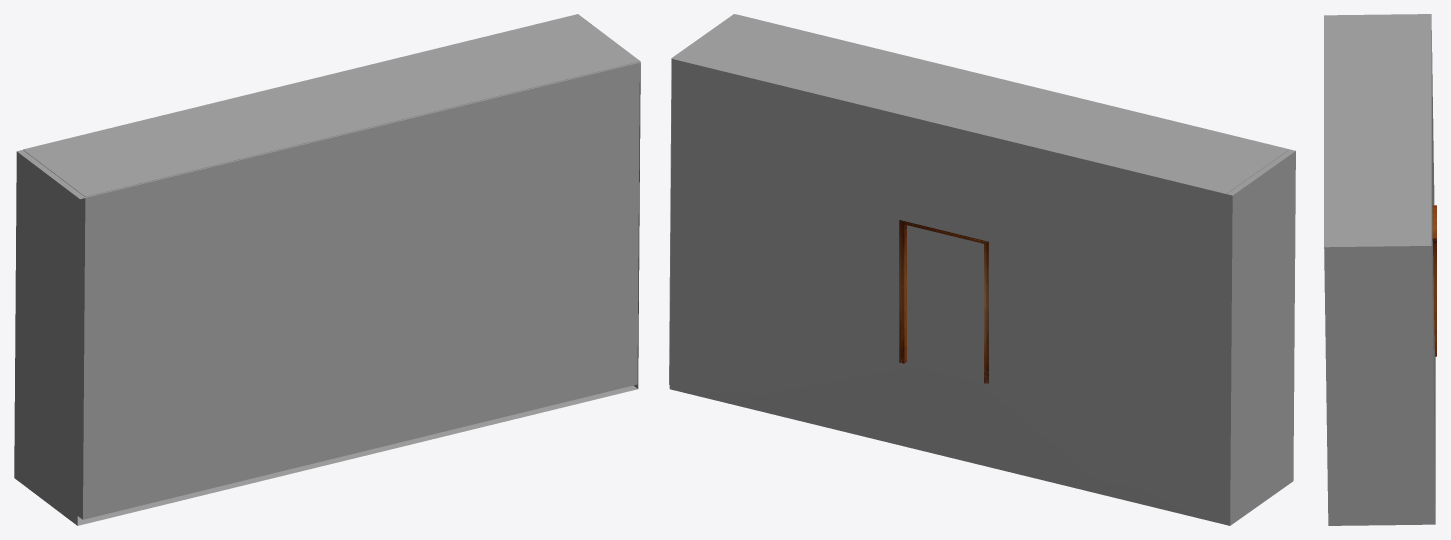
Rendered from Portal and Door Frame.fbx.
3 renders of one model, left to right at view 1: azimuth 30°, elevation 25°; view 2: azimuth 150°, elevation 25°; view 3: azimuth 270°, elevation 25°, orthographic. The views are drawn at different scales.
Visible parts, largest first — view 1: innerbox, hole_top; view 2: hole_top, innerbox, InteriorDoorProfile; view 3: innerbox, hole_top, InteriorDoorProfile.
Part boxes in pixels (x1,y1,x2,y2): innerbox: [23, 14, 640, 519]; hole_top: [14, 62, 640, 525]; hole_top: [669, 14, 1295, 525]; innerbox: [669, 14, 1289, 384]; InteriorDoorProfile: [899, 220, 988, 384]; innerbox: [1325, 16, 1435, 522]; hole_top: [1324, 14, 1435, 525]; InteriorDoorProfile: [1432, 205, 1436, 356].
Size of the model in its own units: 971 by 546 by 199.
Materials: 3 (1 with a texture image).
